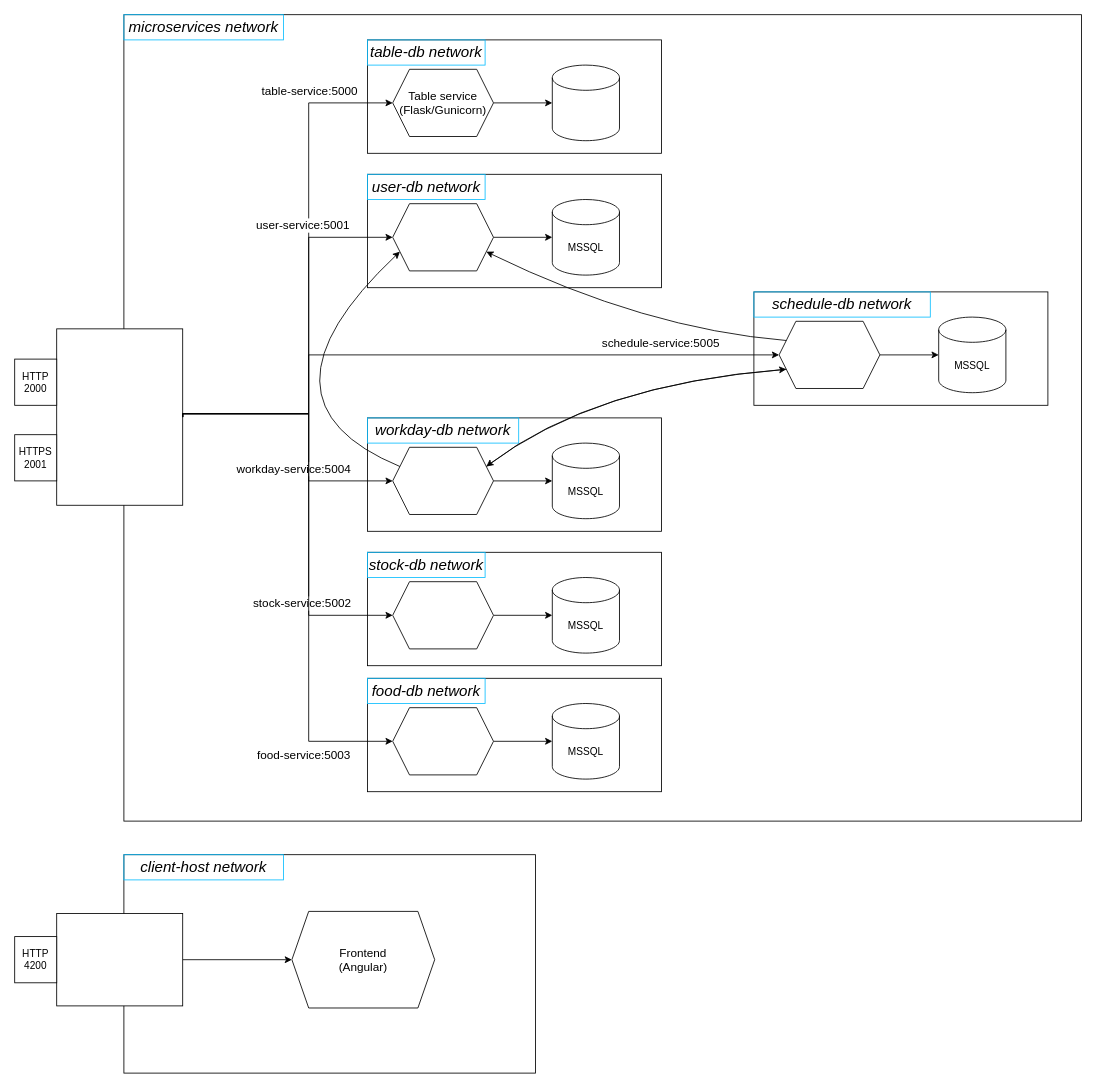
Image size: 1096x1088. Some labels were removed from this diagram. The centre of each missing label's shape, as x and y in pixels:
API Gateway (nginx): the point at 119,416
Food service (.NET): the point at 443,741
Mongodb Atlas: the point at 585,102
Schedule service (.NET): the point at 829,354
Stock service (.NET): the point at 443,615
User service (.NET): the point at 443,237
Webserver (nginx): the point at 119,959
Workday service (.NET): the point at 443,480
